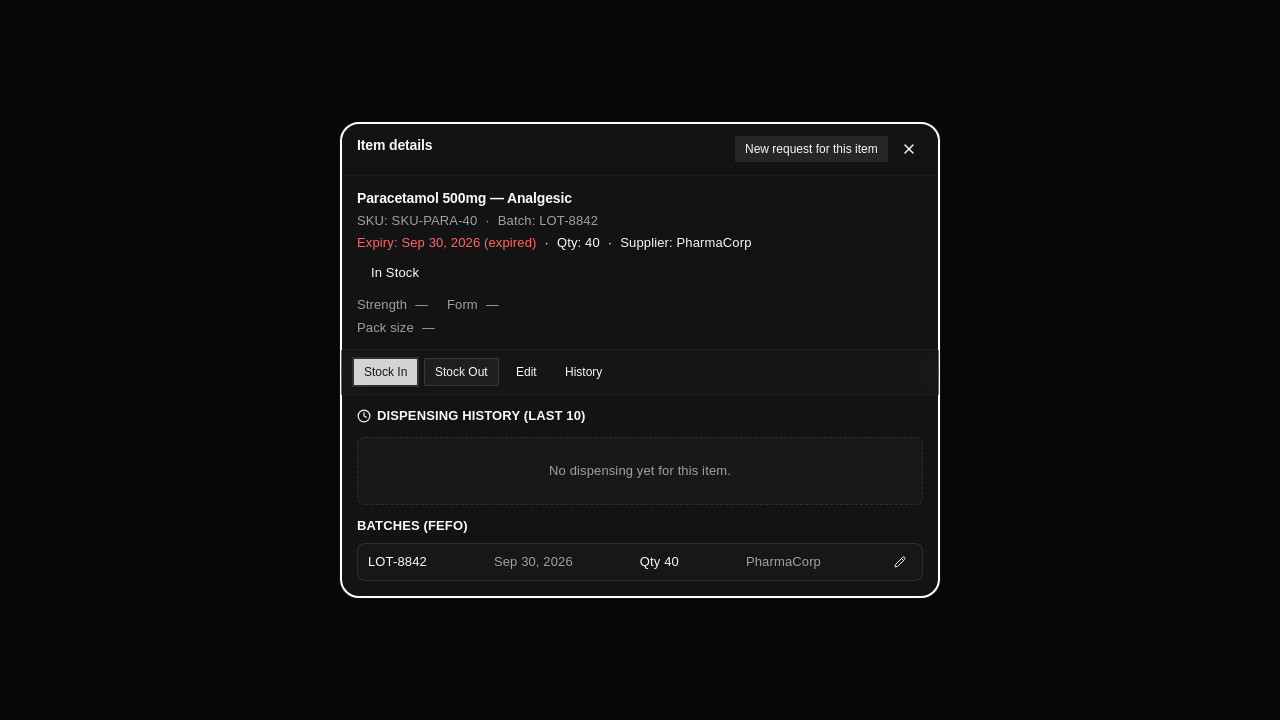
it: StockDetailModal › swaps the detail body for the real dispensing history
Step 1. Click the button "History" → (583, 372), box [554,358,613,386]
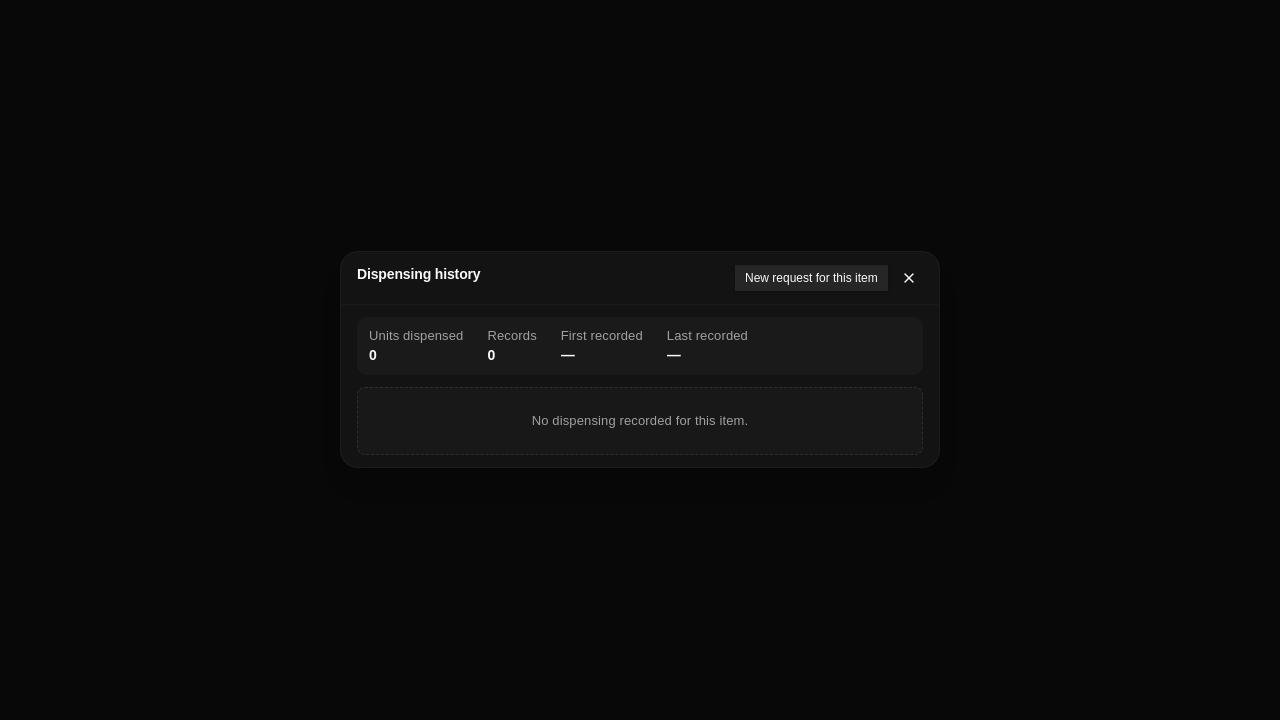
Expected: the heading "Dispensing history" is shown, [357,264,480,284]
Expected: the heading "Batches (FEFO)" is gone
Expected: the text "No dispensing recorded for this item." is shown, [357,388,923,456]
